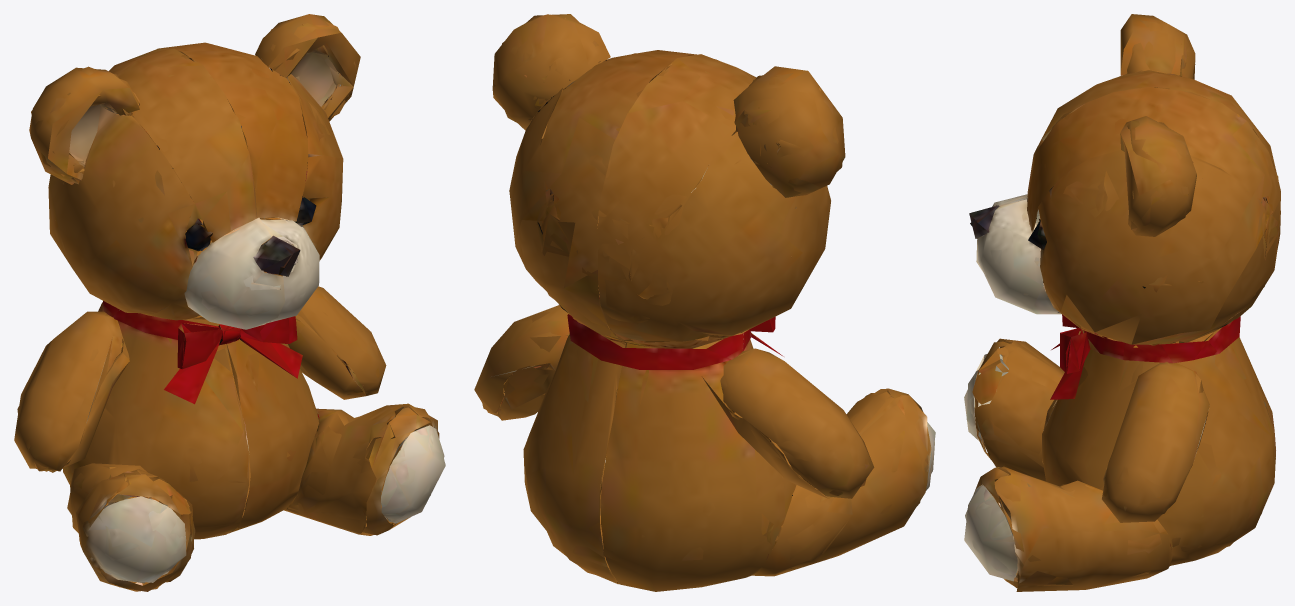
The model's file is peluche.glb.
The picture shows the model from 3 angles, left to right: view 1: azimuth 30°, elevation 25°; view 2: azimuth 150°, elevation 25°; view 3: azimuth 270°, elevation 25°; orthographic projection. The views are drawn at different scales.
Parts seen in each view (by area): view 1: objeto; view 2: objeto; view 3: objeto.
Part boxes in pixels (left/top/right/bottom): objeto: left=14, top=14, right=445, bottom=591; objeto: left=474, top=14, right=935, bottom=591; objeto: left=964, top=14, right=1280, bottom=591.
Bounding box in the file's own units: 0.8232 × 1.05 × 0.6482.
1 material, 1 textured.
